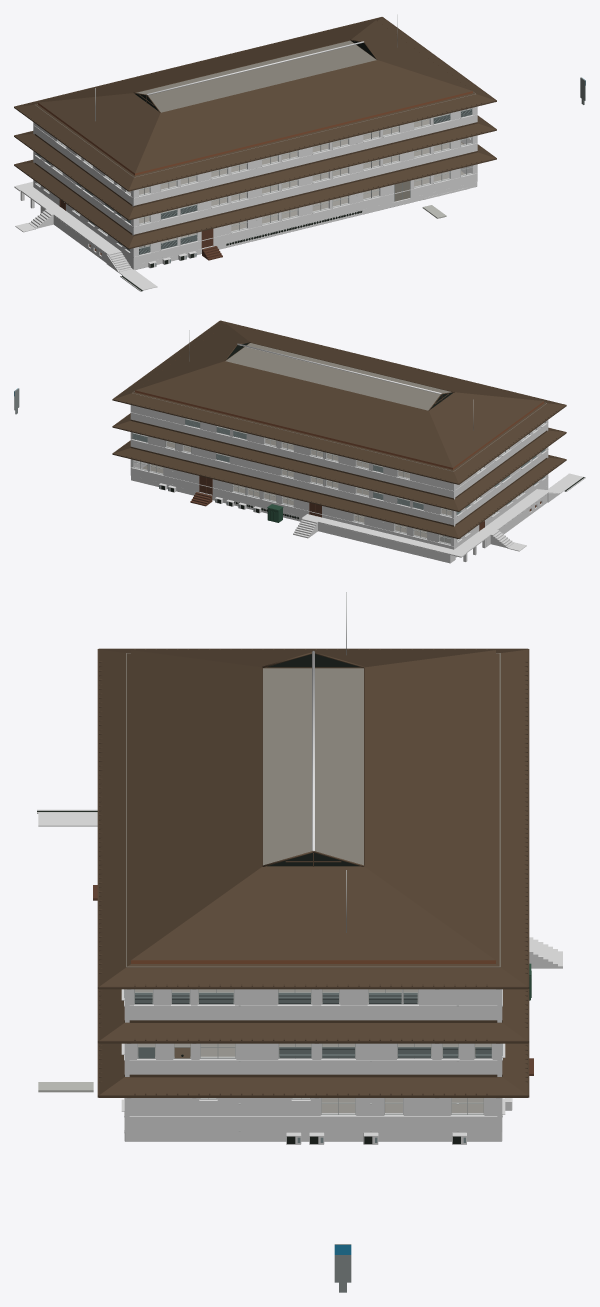
The model's file is edificio_piezas.glb.
The picture shows the model from 3 angles, top to bottom: view 1: azimuth 30°, elevation 25°; view 2: azimuth 150°, elevation 25°; view 3: azimuth 270°, elevation 25°; orthographic projection. The views are drawn at different scales.
Visible parts, largest first — view 1: Main roof upper hip, solid wall, Floor slab, Main roof outer eave, Level 2 tiled sunshade substrate, Level 1 tiled sunshade substrate, street individual pane, eave wall band, window sill, Main lower hipped roof fascia, window transom, Foundation (+12 smaller); view 2: Main roof upper hip, solid wall, Main roof outer eave, Floor slab, Level 2 tiled sunshade substrate, Level 1 tiled sunshade substrate, eave wall band, rear individual pane, Main lower hipped roof fascia, rear corridor base, window sill, end corridor finish (+13 smaller); view 3: Main roof upper hip, Main roof outer eave, solid wall, Floor slab, Level 2 tiled sunshade substrate, Level 1 tiled sunshade substrate, Main lower hipped roof fascia, window observed lower louvre, Foundation, eave wall band, end individual pane, Level 2 tiled sunshade fascia (+8 smaller).
Boxes of the visible parts, <box> form: Main roof upper hip: <box>38,20,472,173</box>; solid wall: <box>33,106,477,265</box>; Floor slab: <box>35,40,475,246</box>; Main roof outer eave: <box>15,17,495,189</box>; Level 2 tiled sunshade substrate: <box>15,116,495,218</box>; Level 1 tiled sunshade substrate: <box>15,142,495,247</box>; street individual pane: <box>139,108,471,247</box>; eave wall band: <box>34,122,477,235</box>; window sill: <box>35,115,473,256</box>; Main lower hipped roof fascia: <box>14,17,496,191</box>; window transom: <box>36,108,471,254</box>; Foundation: <box>127,182,477,269</box>; Main roof upper hip: <box>135,323,543,467</box>; solid wall: <box>130,405,548,549</box>; Main roof outer eave: <box>114,321,565,483</box>; Floor slab: <box>132,343,546,537</box>; Level 2 tiled sunshade substrate: <box>114,414,565,510</box>; Level 1 tiled sunshade substrate: <box>113,441,565,537</box>; eave wall band: <box>130,419,548,526</box>; rear individual pane: <box>133,418,451,544</box>; Main lower hipped roof fascia: <box>112,320,566,484</box>; rear corridor base: <box>318,523,455,563</box>; window sill: <box>131,423,546,545</box>; end corridor finish: <box>454,490,547,552</box>; Main roof upper hip: <box>131,650,495,960</box>; Main roof outer eave: <box>99,649,527,986</box>; solid wall: <box>124,989,502,1132</box>; Floor slab: <box>126,653,500,1112</box>; Level 2 tiled sunshade substrate: <box>99,989,527,1040</box>; Level 1 tiled sunshade substrate: <box>99,1043,527,1094</box>; Main lower hipped roof fascia: <box>97,648,529,989</box>; window observed lower louvre: <box>124,989,502,1057</box>; Foundation: <box>124,1132,502,1141</box>; eave wall band: <box>124,1007,502,1077</box>; end individual pane: <box>135,989,491,1113</box>; Level 2 tiled sunshade fascia: <box>97,989,529,1043</box>.
Size of the model in its own units: 73.03 by 17 by 32.06.
